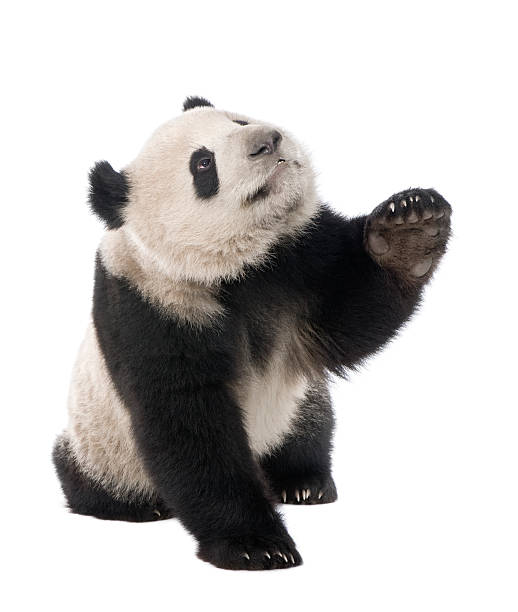panda: (49, 70, 327, 328)
